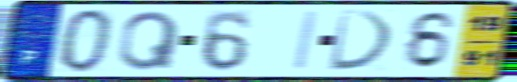0: (55, 7, 116, 74)
6: (401, 10, 456, 72), (202, 9, 254, 73)
D: (326, 9, 399, 73)
I: (290, 9, 323, 72)
Q: (116, 9, 182, 72)
